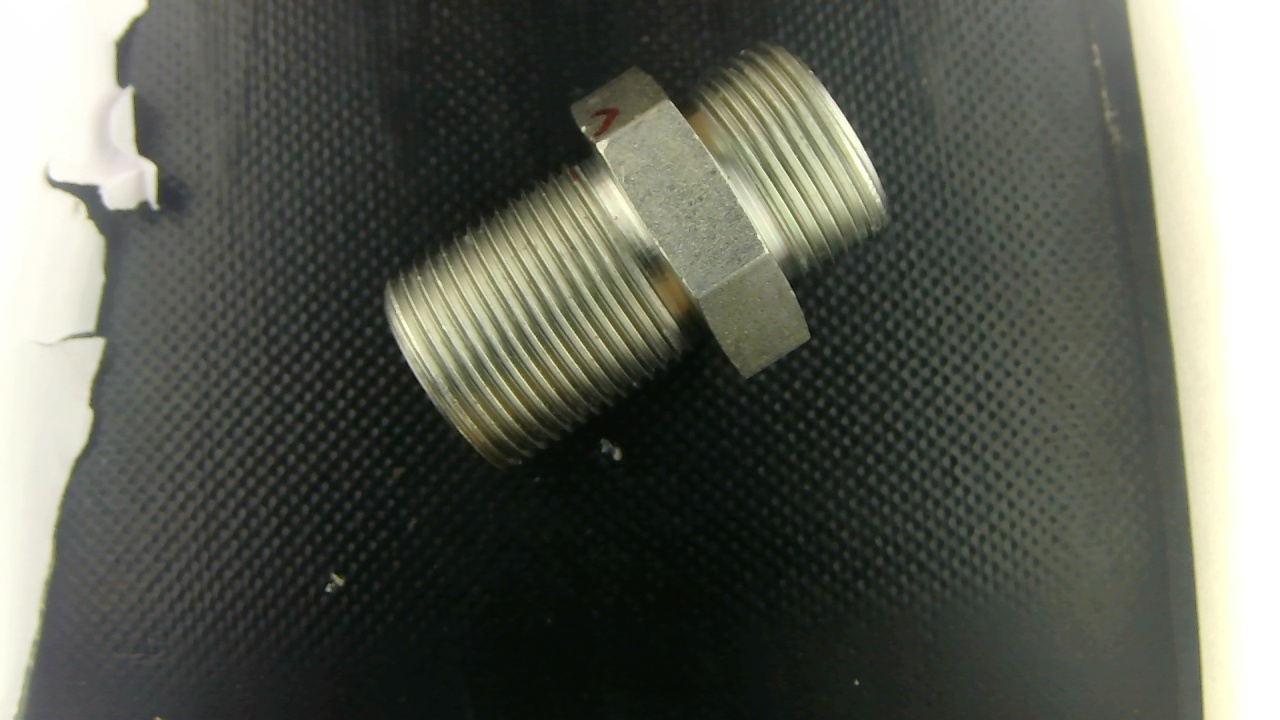SurfaceDent_Adaptor: (597, 135, 609, 156)
